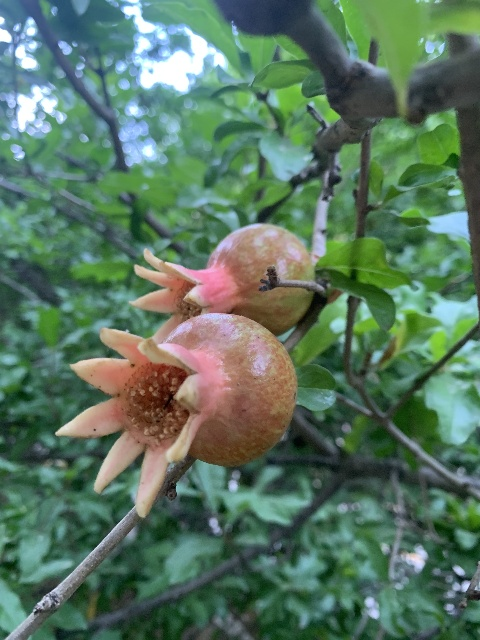early-fruit: (56, 313, 296, 517), (128, 223, 315, 339)
